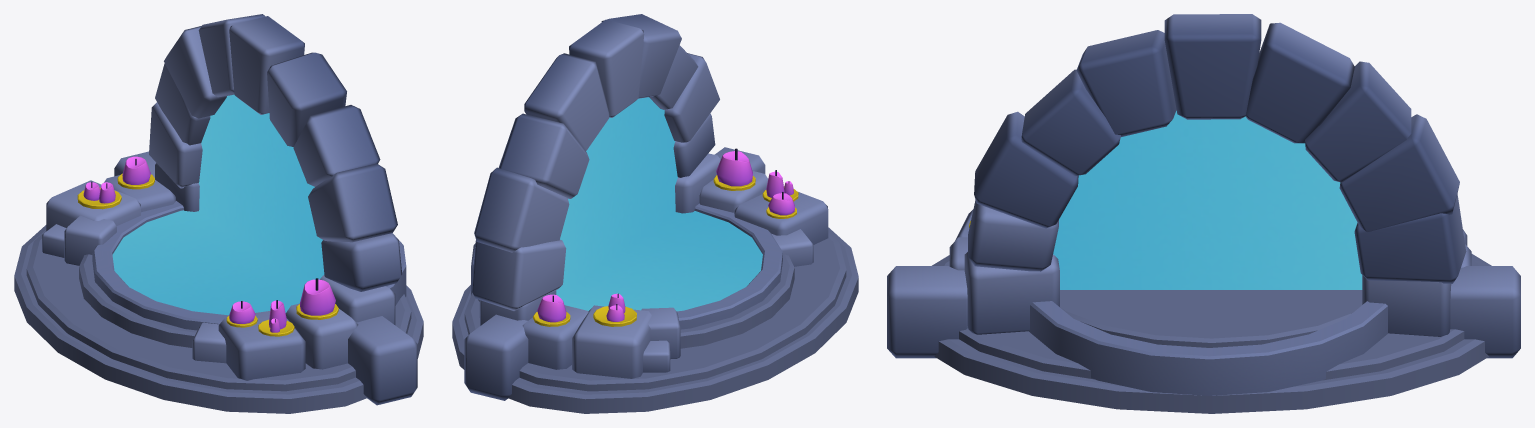
File: PotionPortal_01.fbx
The picture shows the model from 3 angles, left to right: view 1: azimuth 30°, elevation 25°; view 2: azimuth 150°, elevation 25°; view 3: azimuth 270°, elevation 25°; orthographic projection. The views are drawn at different scales.
Parts seen in each view (by area): view 1: PortalFrame_GEO, portal; view 2: PortalFrame_GEO, portal; view 3: PortalFrame_GEO, portal.
Part boxes in pixels (box(x1,y1,x2,y2)): PortalFrame_GEO: box(14, 14, 423, 413); portal: box(112, 94, 324, 315); PortalFrame_GEO: box(452, 14, 858, 413); portal: box(556, 97, 762, 311); PortalFrame_GEO: box(887, 14, 1520, 413); portal: box(1053, 110, 1362, 289).
Bounding box in the file's own units: 6.43 × 5.1 × 8.95.
